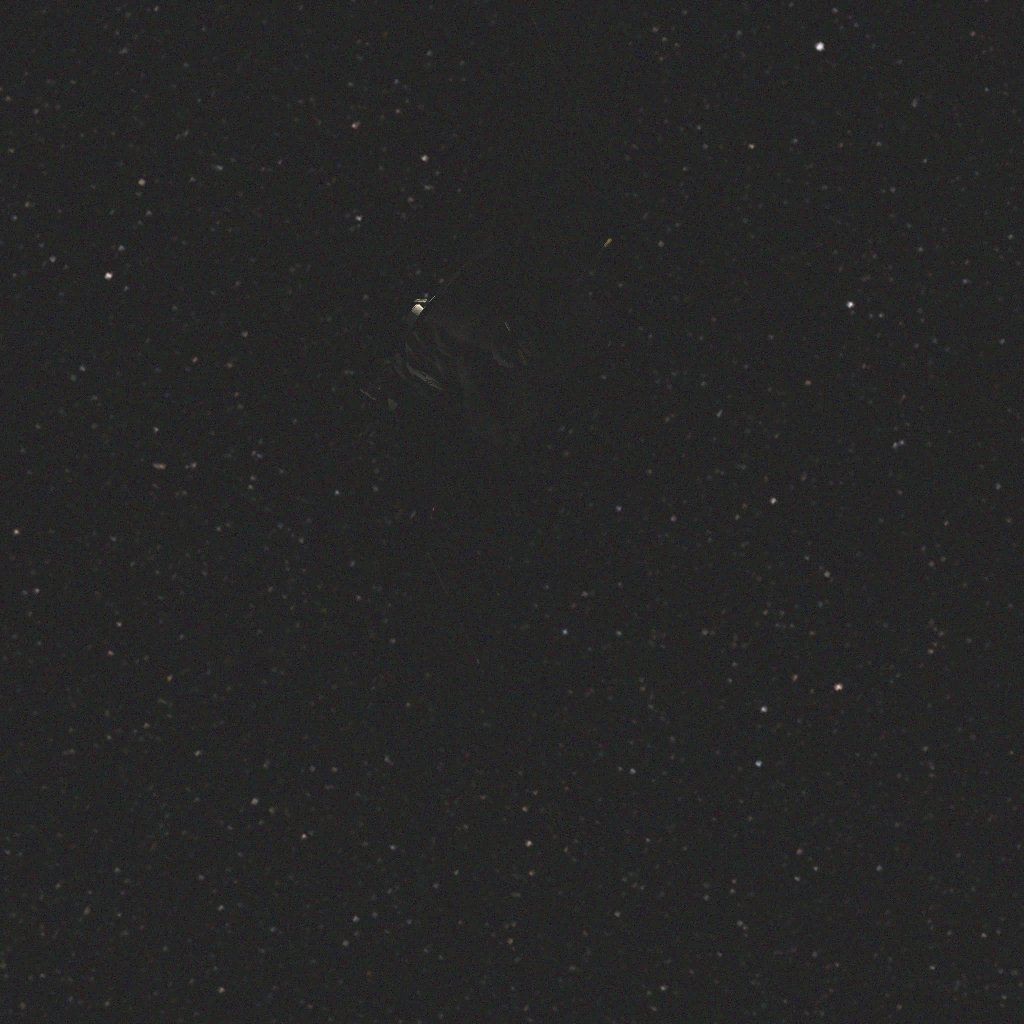smart_1: (350, 0, 633, 733)
